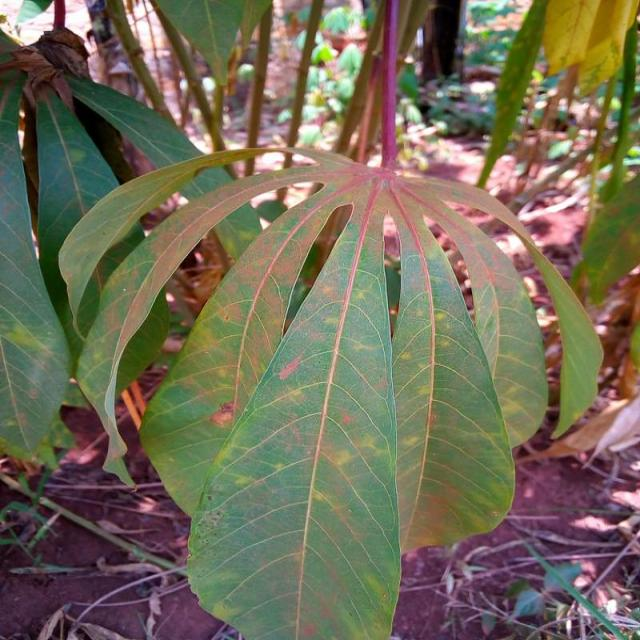cassava leaf: (185, 190, 402, 638), (387, 180, 516, 555)
